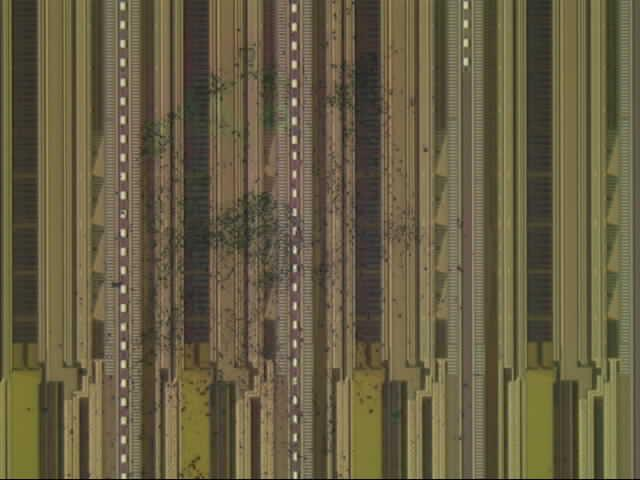PO CONTAMINATION: (134, 41, 424, 432)
